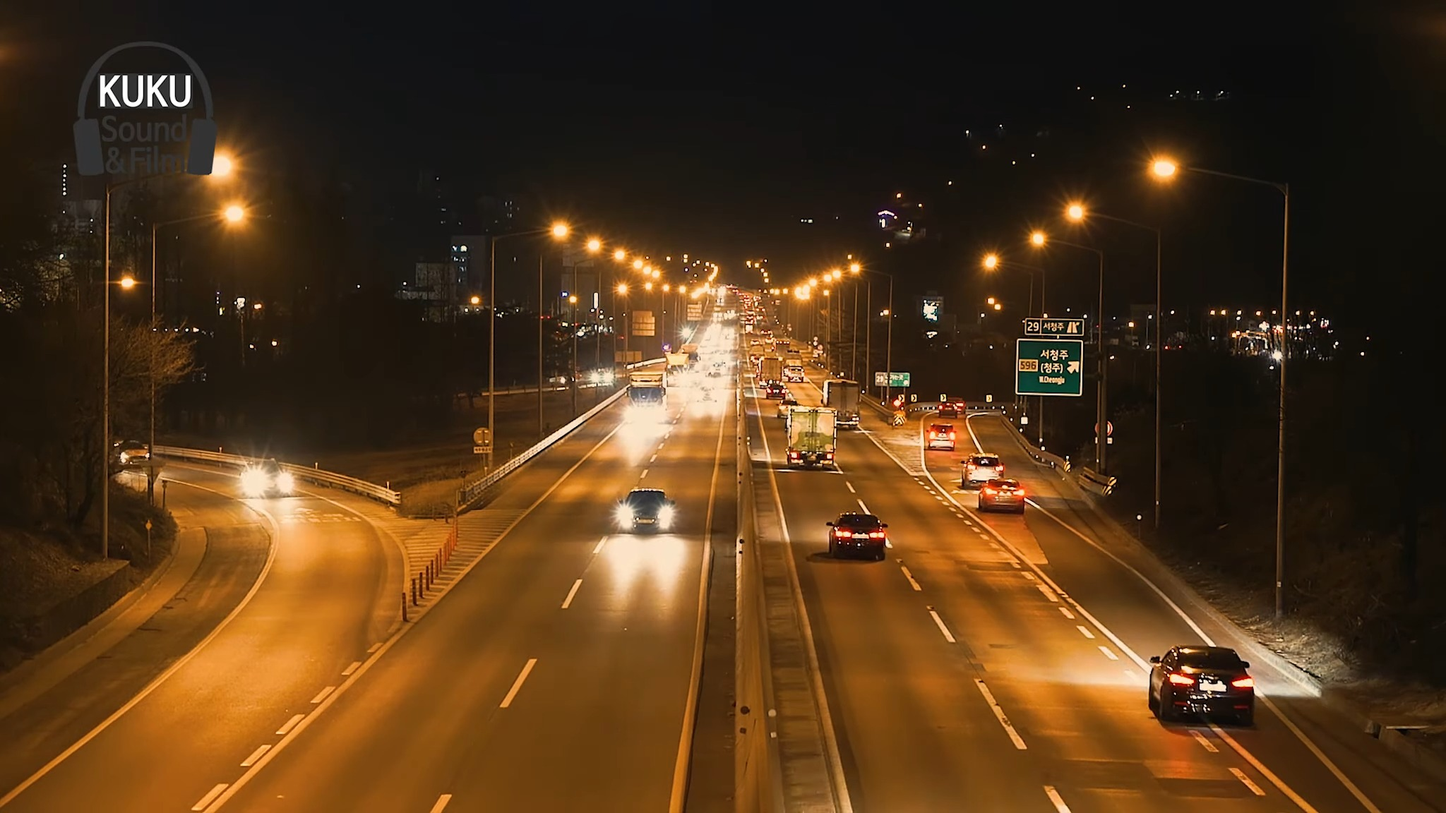car: (1151, 644, 1254, 725), (618, 489, 672, 538), (832, 512, 887, 557), (982, 478, 1025, 516), (961, 454, 1006, 490)
truck: (782, 397, 842, 473)
